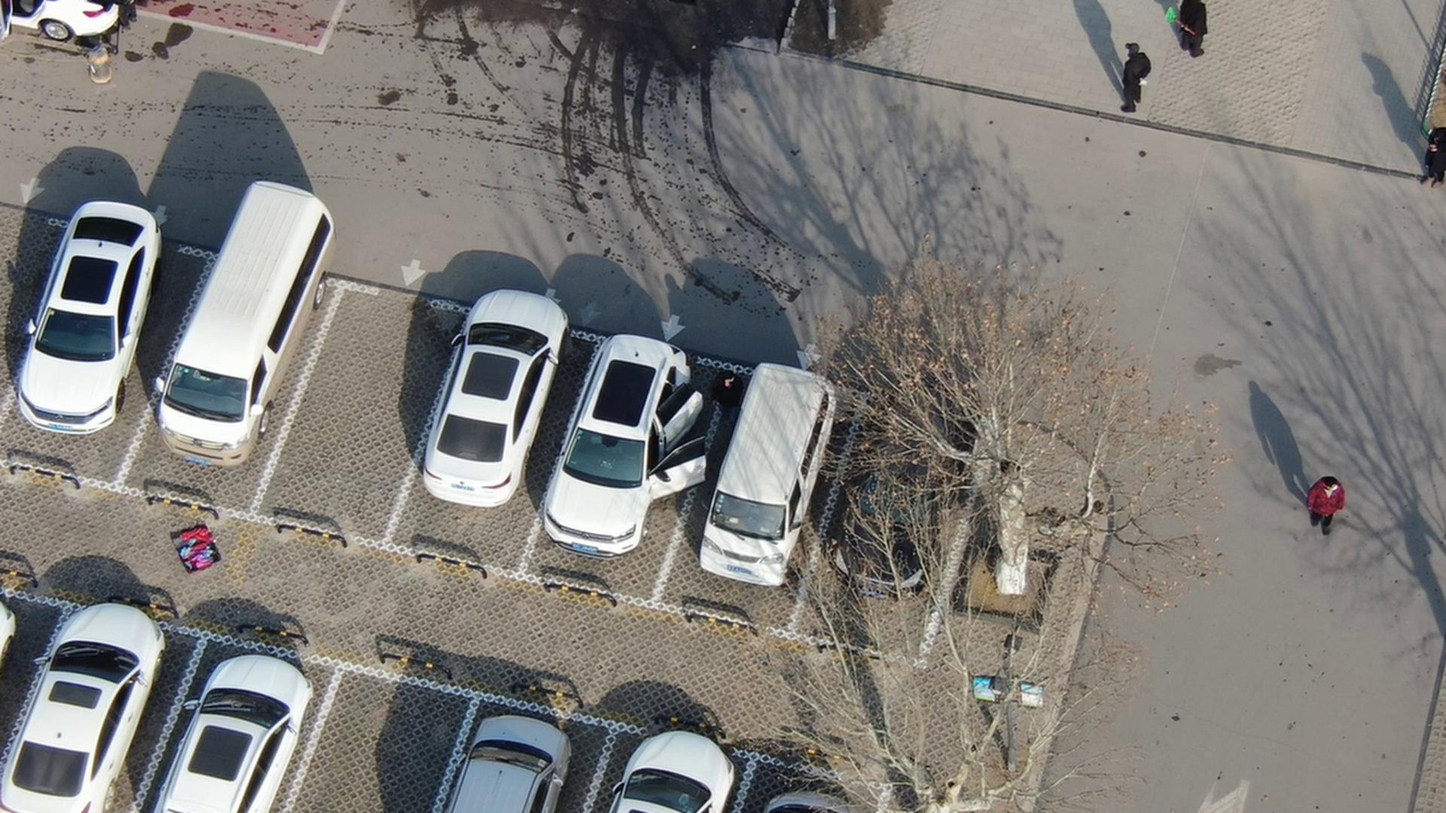human: (1112, 36, 1158, 119), (1298, 474, 1345, 550), (1411, 120, 1446, 200), (704, 365, 744, 431), (1173, 1, 1213, 62)
